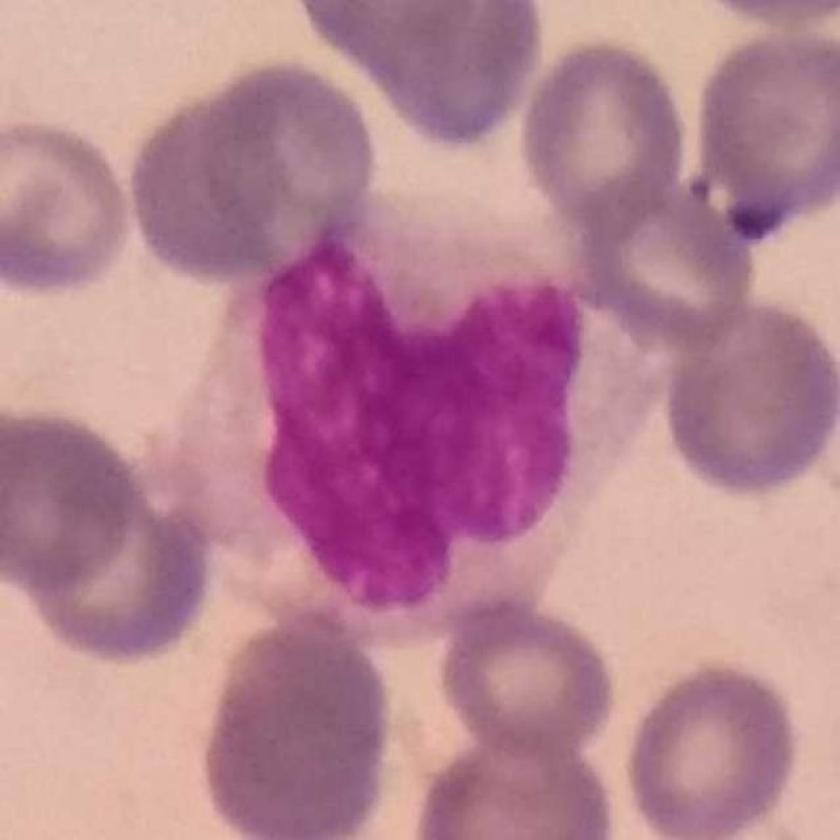monocyte: (143, 188, 676, 655)
